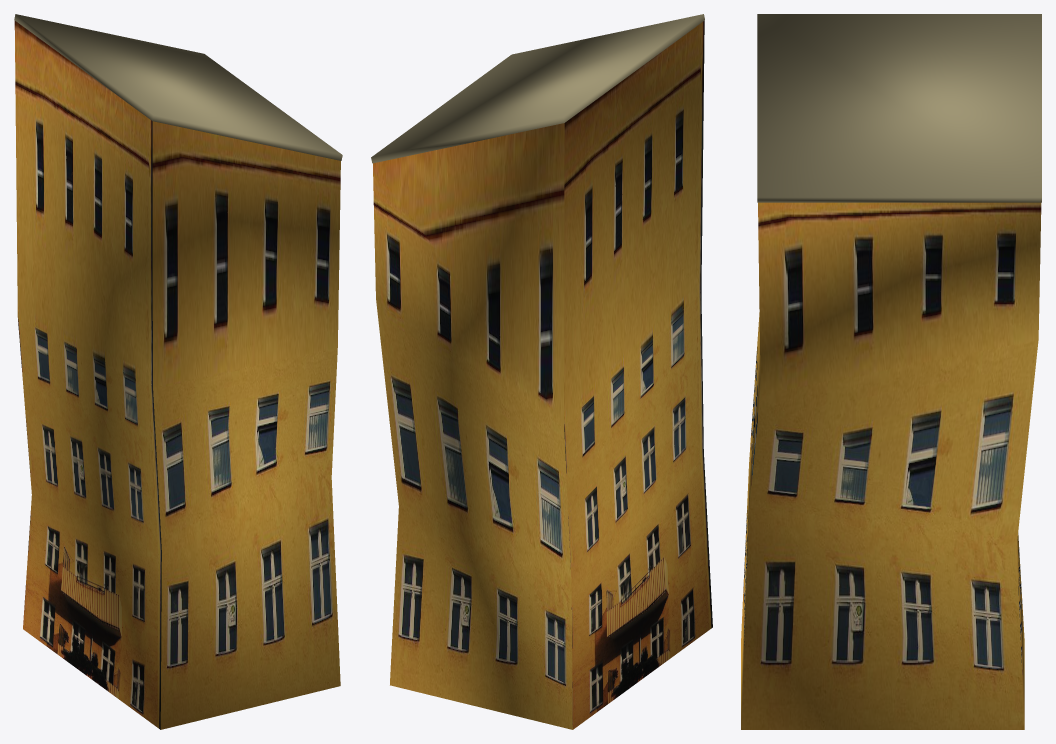
The model's file is apartments_one.fbx.
The picture shows the model from 3 angles, left to right: view 1: azimuth 30°, elevation 25°; view 2: azimuth 150°, elevation 25°; view 3: azimuth 270°, elevation 25°; orthographic projection. The views are drawn at different scales.
Visible parts, largest first — view 1: Apartment1.003; view 2: Apartment1.003; view 3: Apartment1.003.
Boxes of the visible parts, <box> form: Apartment1.003: <box>14,14,342,729</box>; Apartment1.003: <box>371,14,712,729</box>; Apartment1.003: <box>741,14,1041,729</box>.
Size of the model in its own units: 1237 by 3781 by 1646.
Materials: 2 (1 with a texture image).
